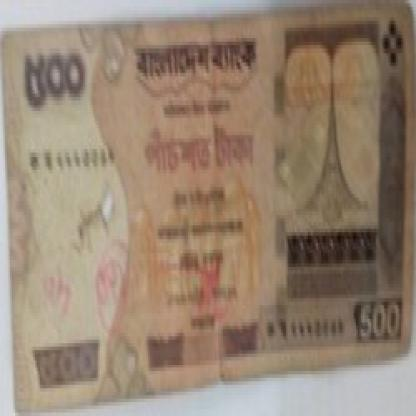500 taka: (136, 90, 274, 184), (14, 38, 102, 104)
currency: (2, 11, 411, 374)
